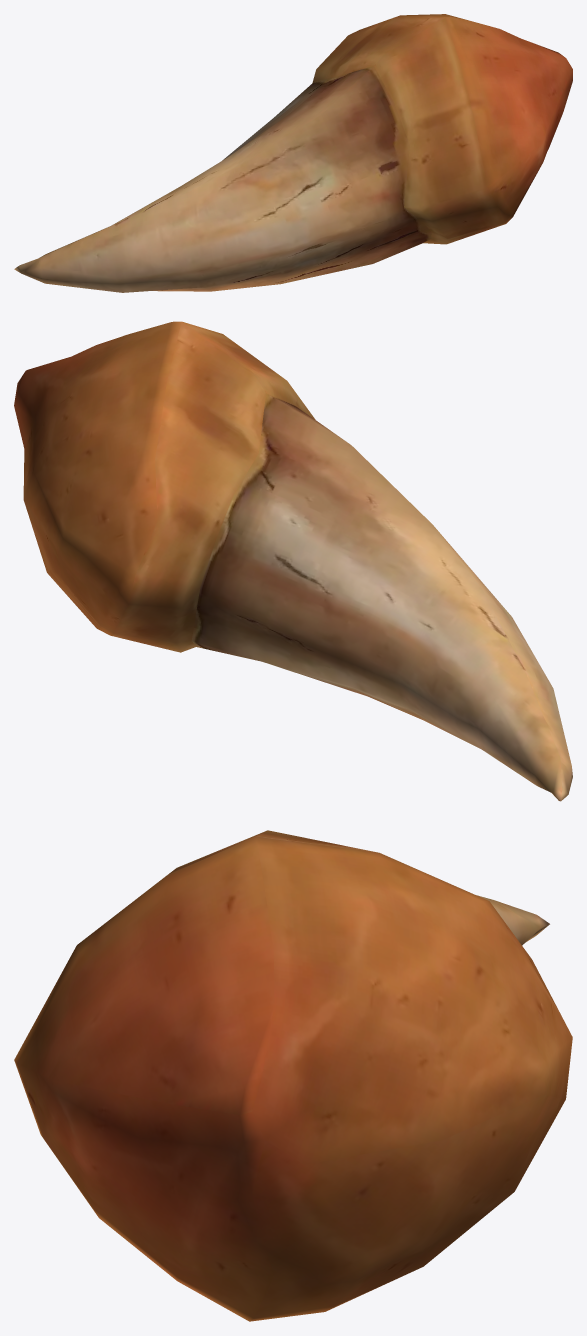
3 views of the same model, one above another, from view 1: azimuth 30°, elevation 25°; view 2: azimuth 150°, elevation 25°; view 3: azimuth 270°, elevation 25° (orthographic). The views are drawn at different scales.
Visible parts, largest first — view 1: SM_Dragon_Tooth_01_LOD0; view 2: SM_Dragon_Tooth_01_LOD0; view 3: SM_Dragon_Tooth_01_LOD0.
Boxes of the visible parts, <box> form: SM_Dragon_Tooth_01_LOD0: <box>14,14,572,292</box>; SM_Dragon_Tooth_01_LOD0: <box>14,321,572,801</box>; SM_Dragon_Tooth_01_LOD0: <box>14,830,572,1321</box>.
Bounding box in the file's own units: 0.488 × 0.224 × 0.2447.
1 material, 1 textured.
